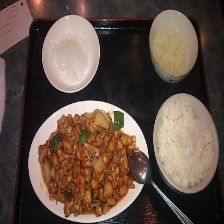sabzi: (35, 107, 137, 219)
